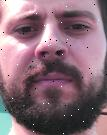without_mask: (2, 2, 107, 135)
